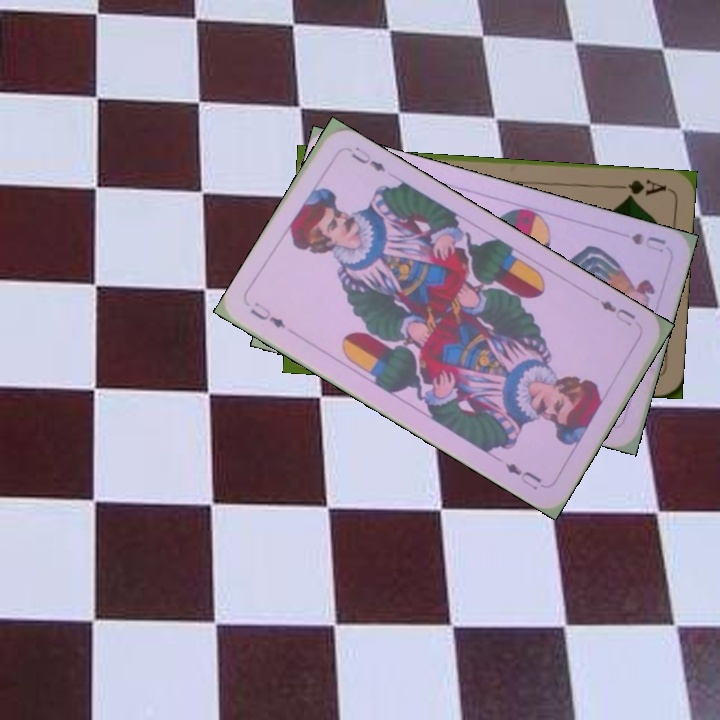EU: (246, 298, 289, 331), (596, 296, 638, 329)
GA: (610, 175, 669, 201)
SU: (627, 229, 669, 255)
